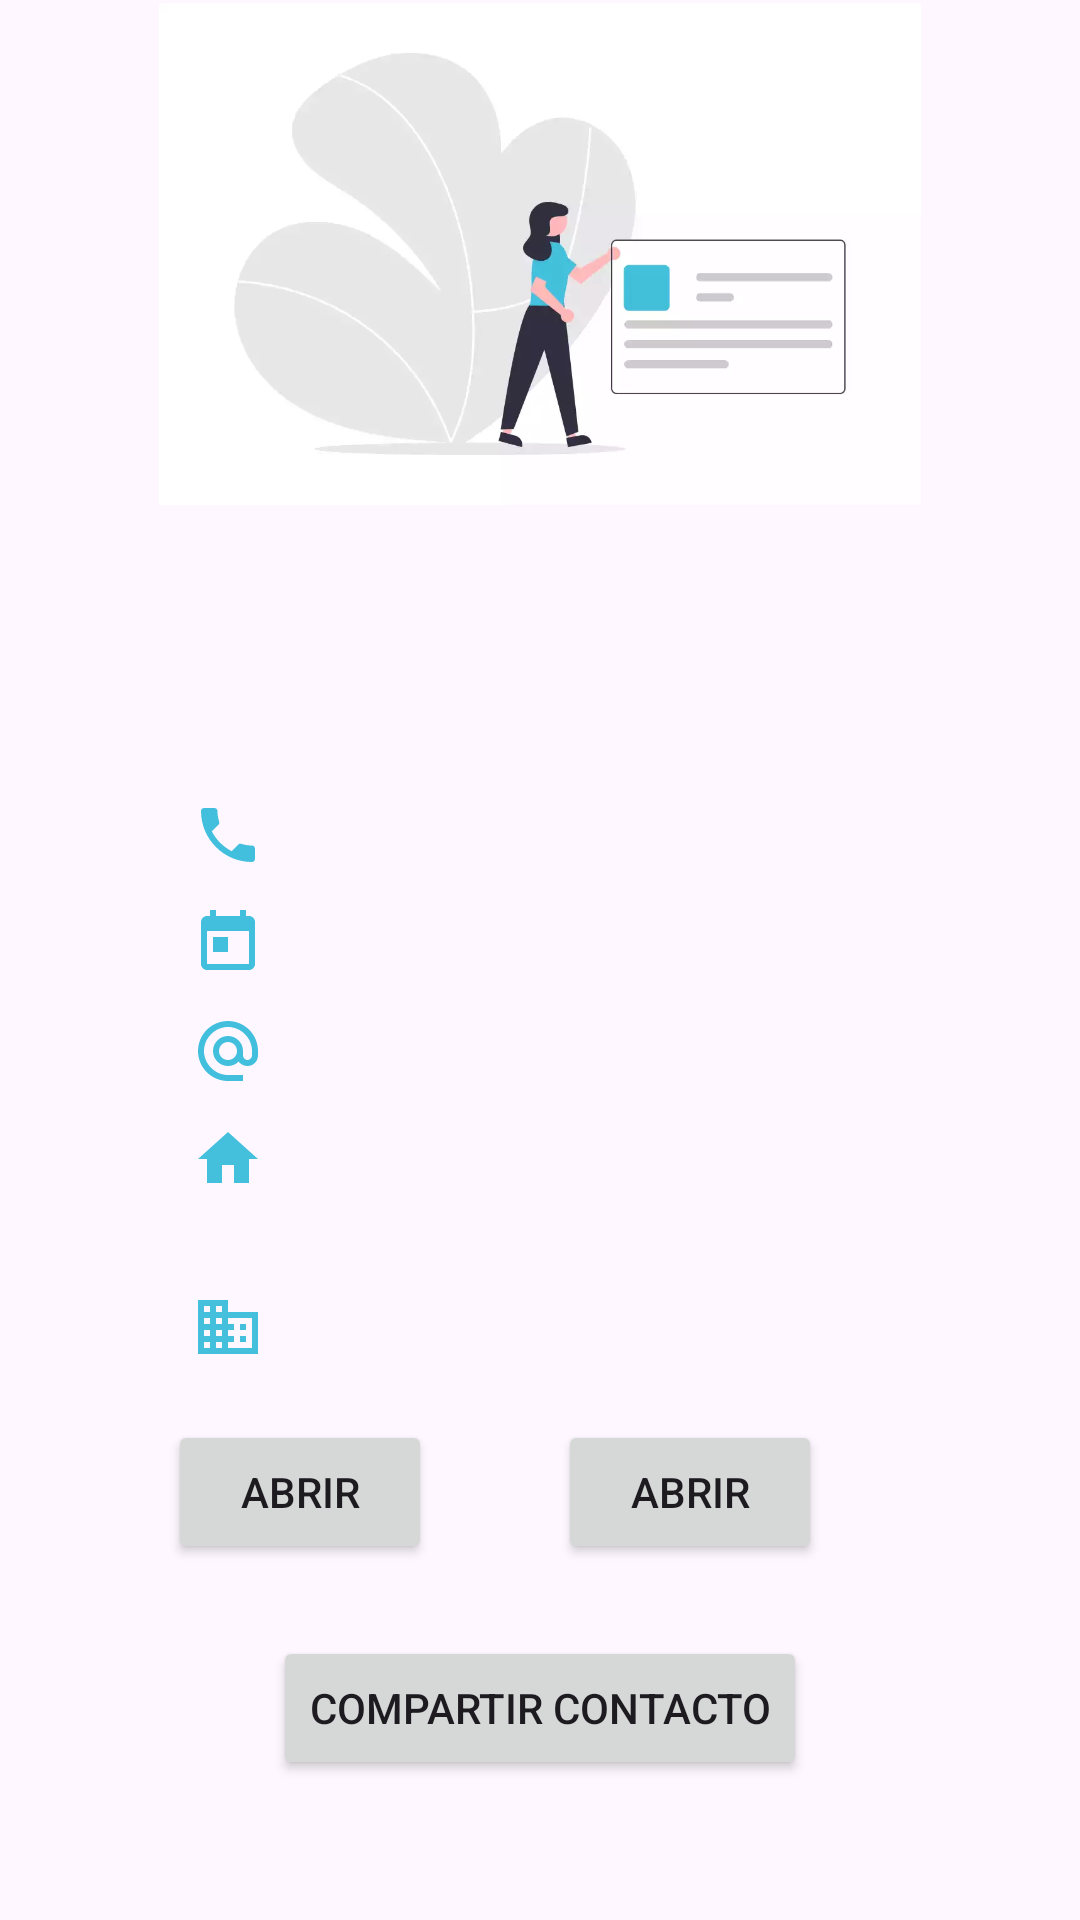

Where icons sit on this 1080×1920 app screen, as (x1, y1, x2, y2):
alternate email: (198, 1021, 258, 1081)
cyan baseline business: (198, 1300, 258, 1354)
cyan baseline home: (198, 1132, 258, 1183)
phone: (201, 808, 255, 862)
today: (201, 910, 255, 970)
